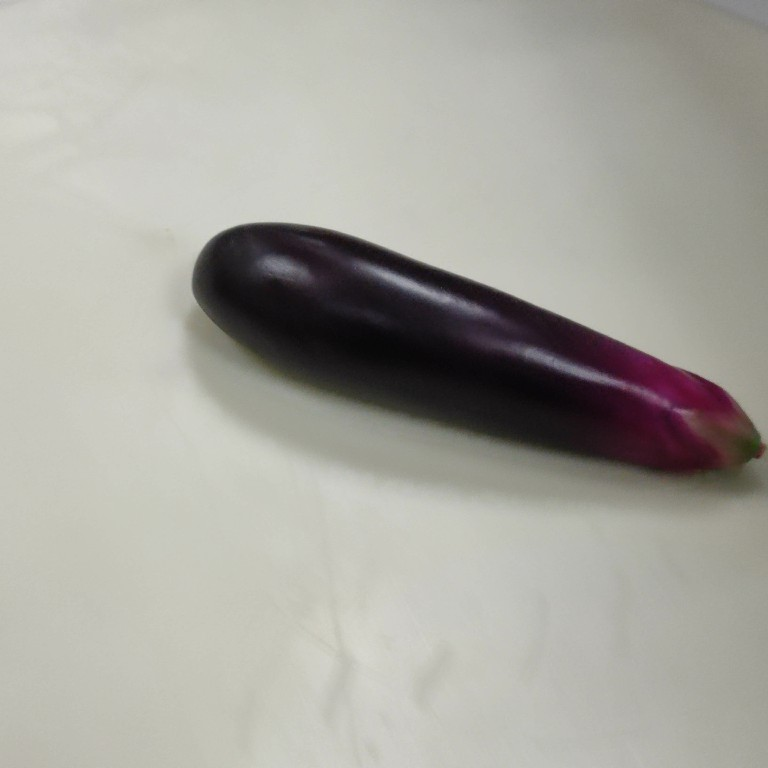fruit_eggplant: (184, 215, 768, 486)
